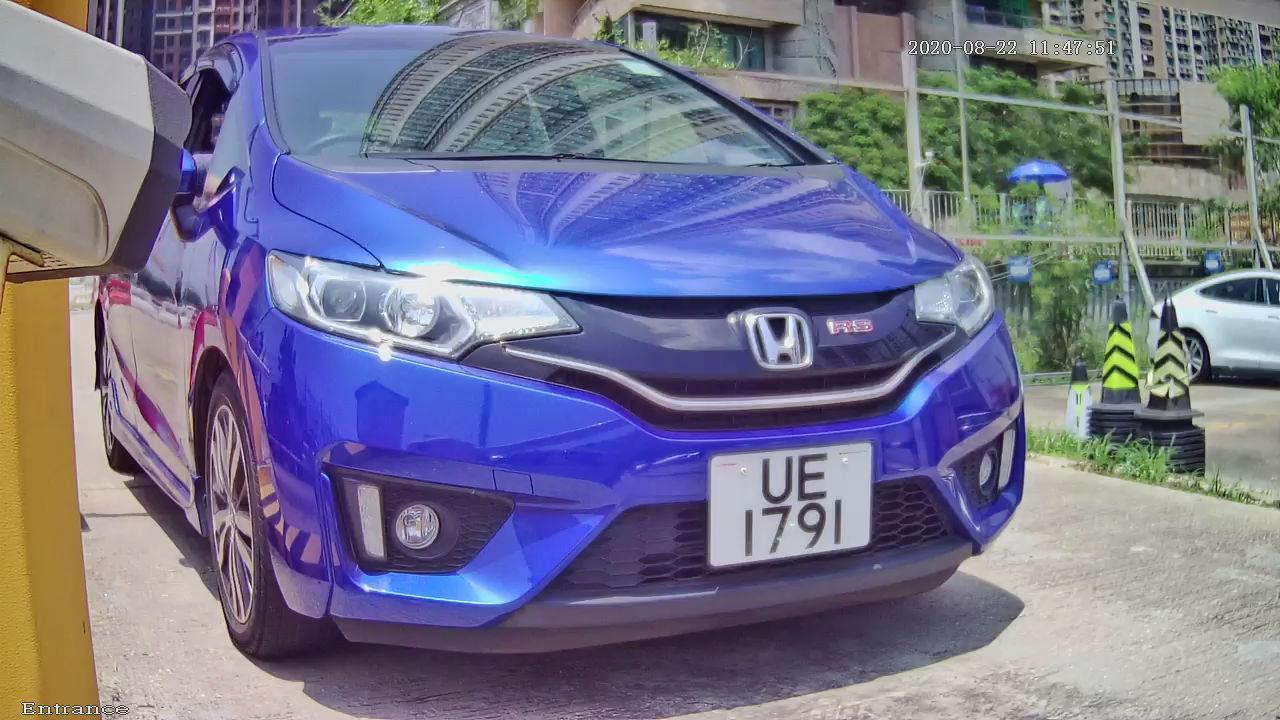Car: (58, 1, 1098, 714)
License Plate: (698, 431, 886, 579)
